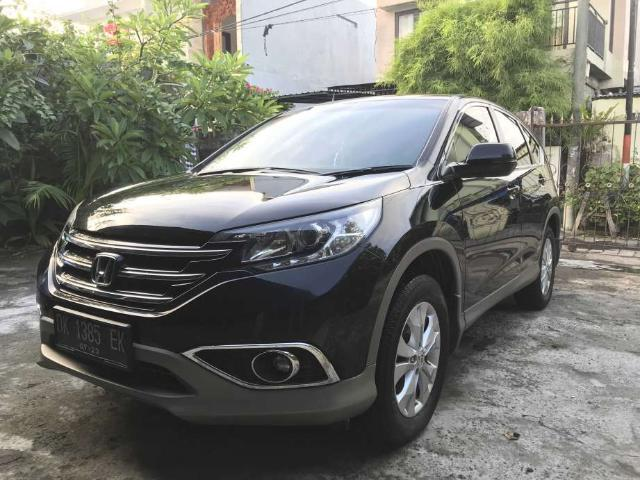plate: (51, 304, 132, 372)
